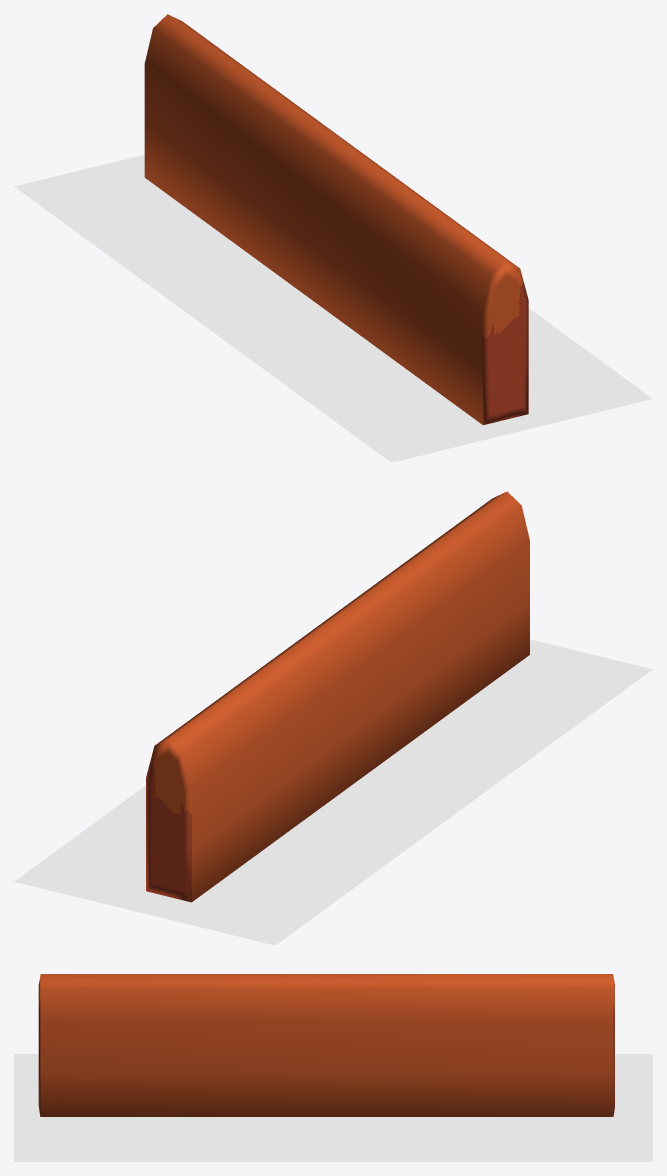
The model's file is NormalContent.fbx.
3 renders of one model, top to bottom at view 1: azimuth 30°, elevation 25°; view 2: azimuth 150°, elevation 25°; view 3: azimuth 270°, elevation 25°, orthographic. The views are drawn at different scales.
Visible parts, largest first — view 1: BasicObstacle, Shadow; view 2: BasicObstacle, Shadow; view 3: BasicObstacle, Shadow.
Boxes of the visible parts, <box> form: BasicObstacle: <box>144,14,528,424</box>; Shadow: <box>14,154,652,462</box>; BasicObstacle: <box>146,491,529,902</box>; Shadow: <box>14,639,652,945</box>; BasicObstacle: <box>38,974,614,1116</box>; Shadow: <box>14,1054,652,1161</box>.
Bounding box in the file's own units: 0.6805 × 0.3992 × 1.7.
Materials: 2 (2 with a texture image).
